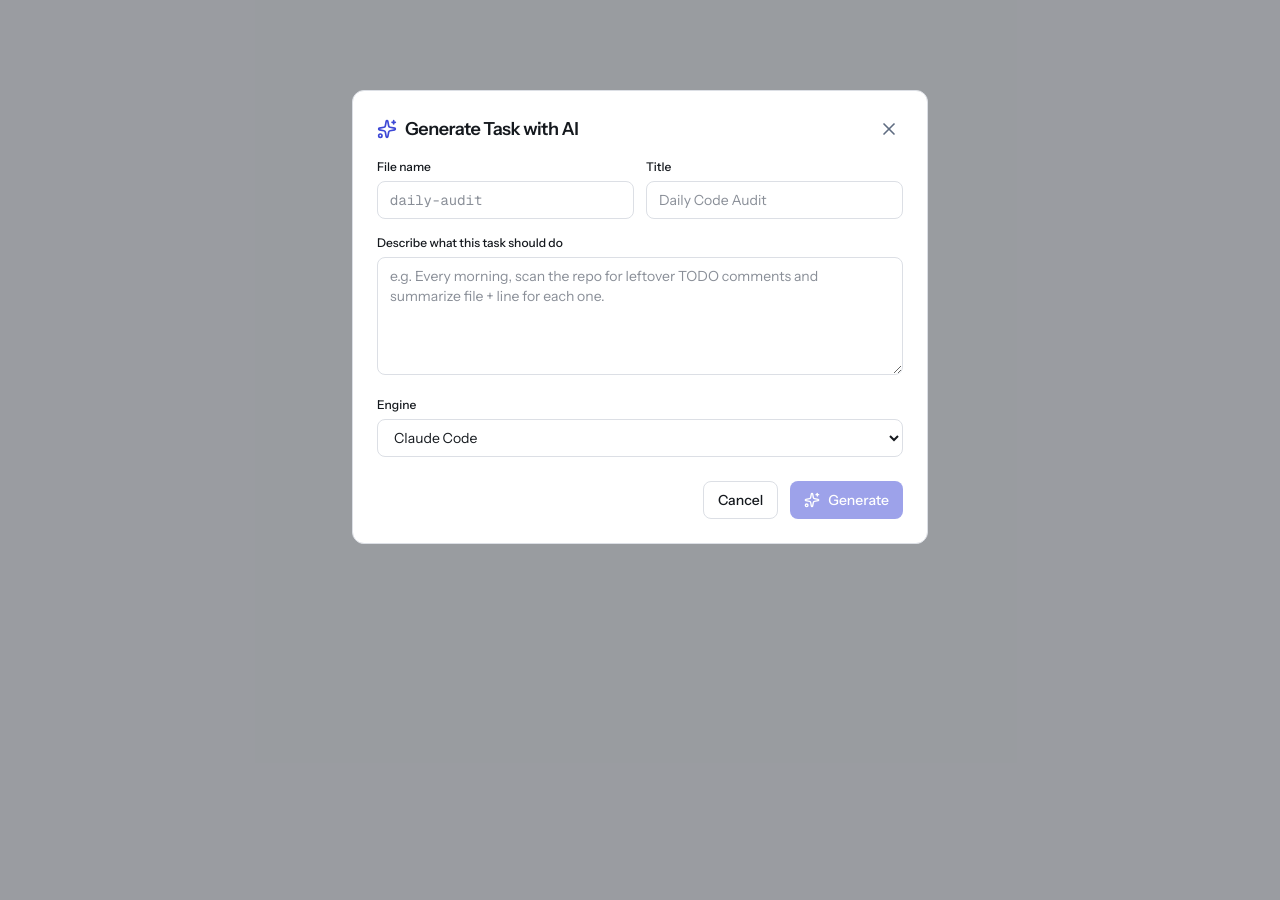
GenerateTaskModal › a run that ends without the task file shows the failure message
The image size is (1280, 900).
In the field labelled "File name": coordinates (506, 200) x1=377 y1=181 x2=634 y2=219, type "nightly-sweep"
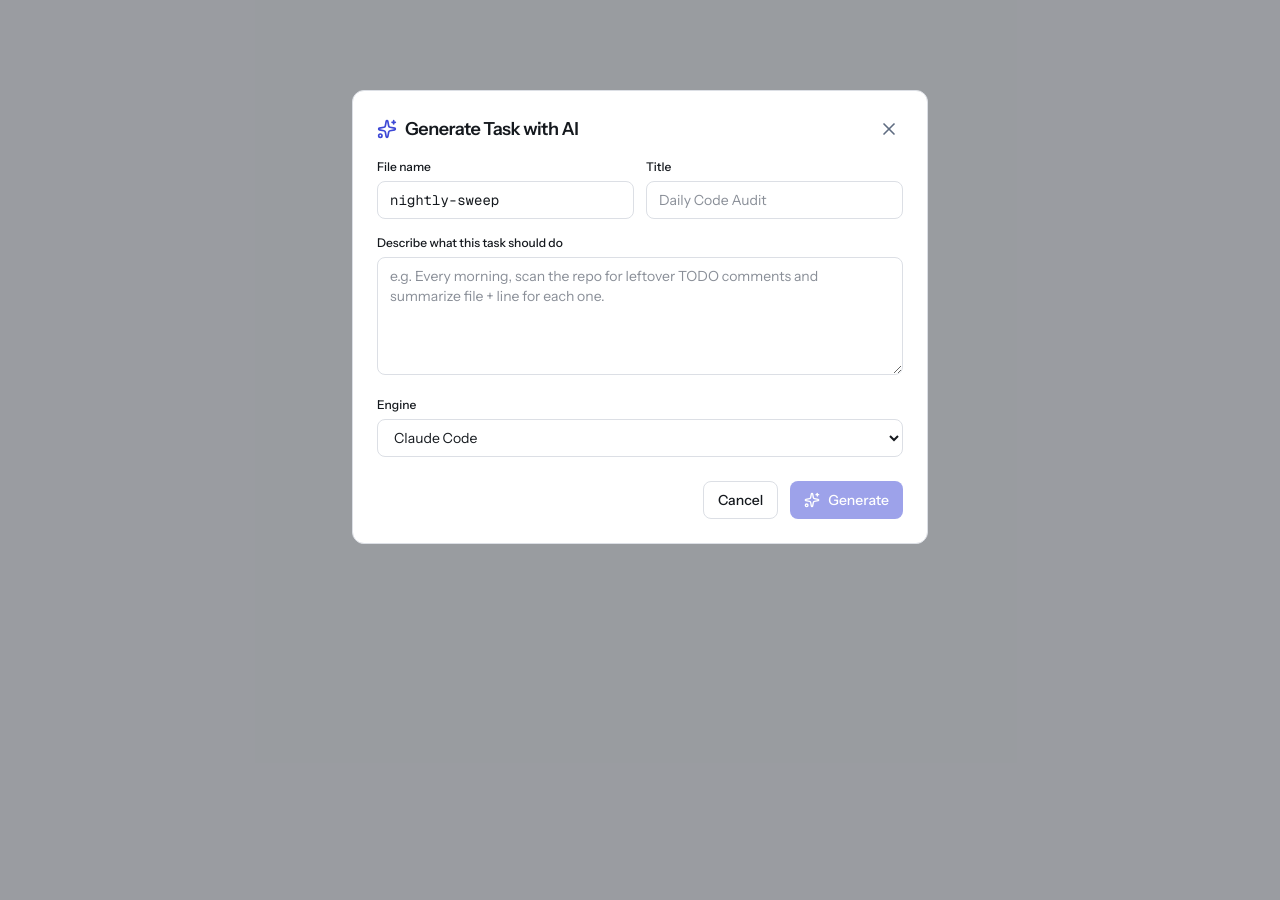
In the field labelled "Title": coordinates (774, 200) x1=646 y1=181 x2=903 y2=219, type "Sweep"
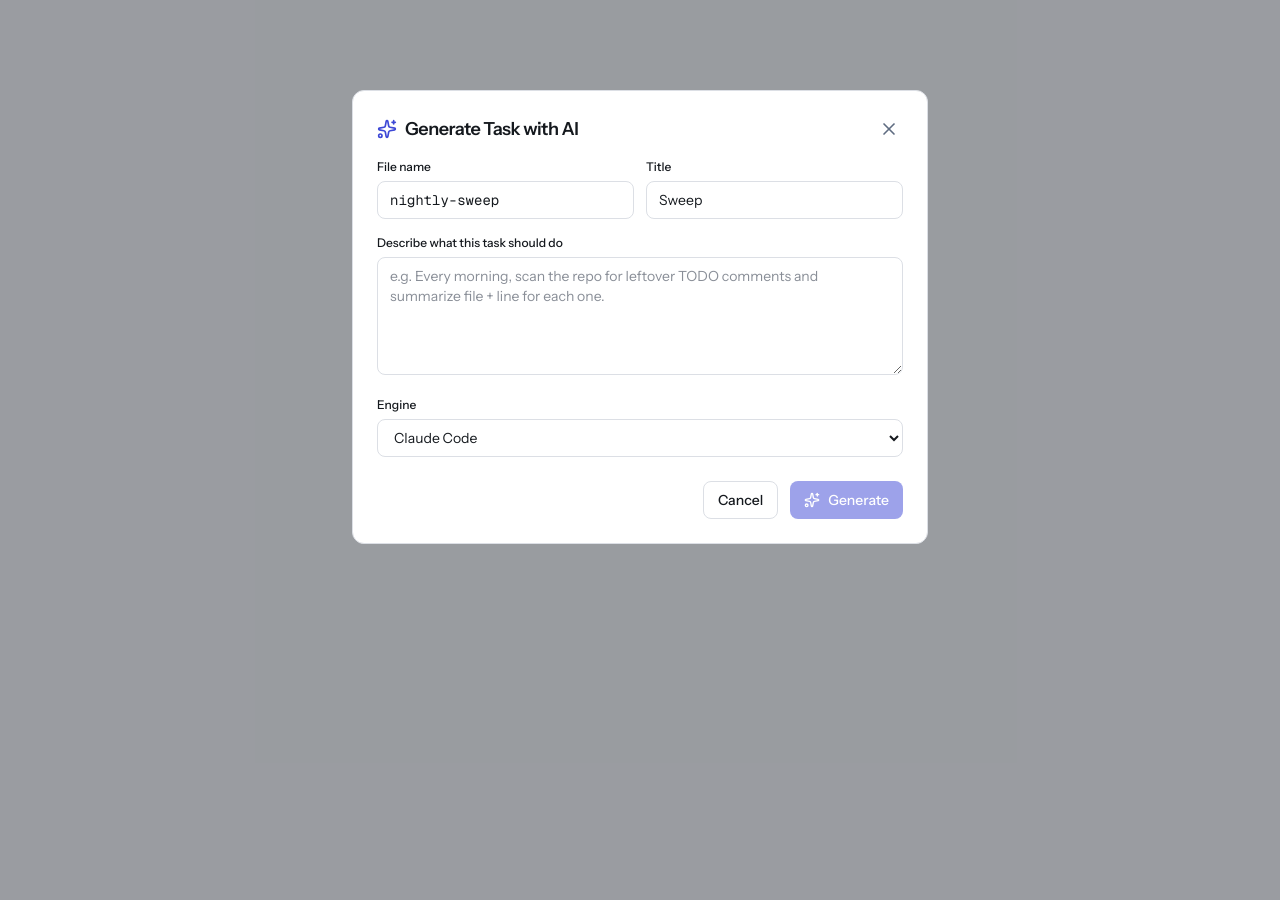
Replace the text in the text box labelled "Describe what this task should do" with "audit dependencies": coordinates (640, 316) x1=377 y1=257 x2=903 y2=375
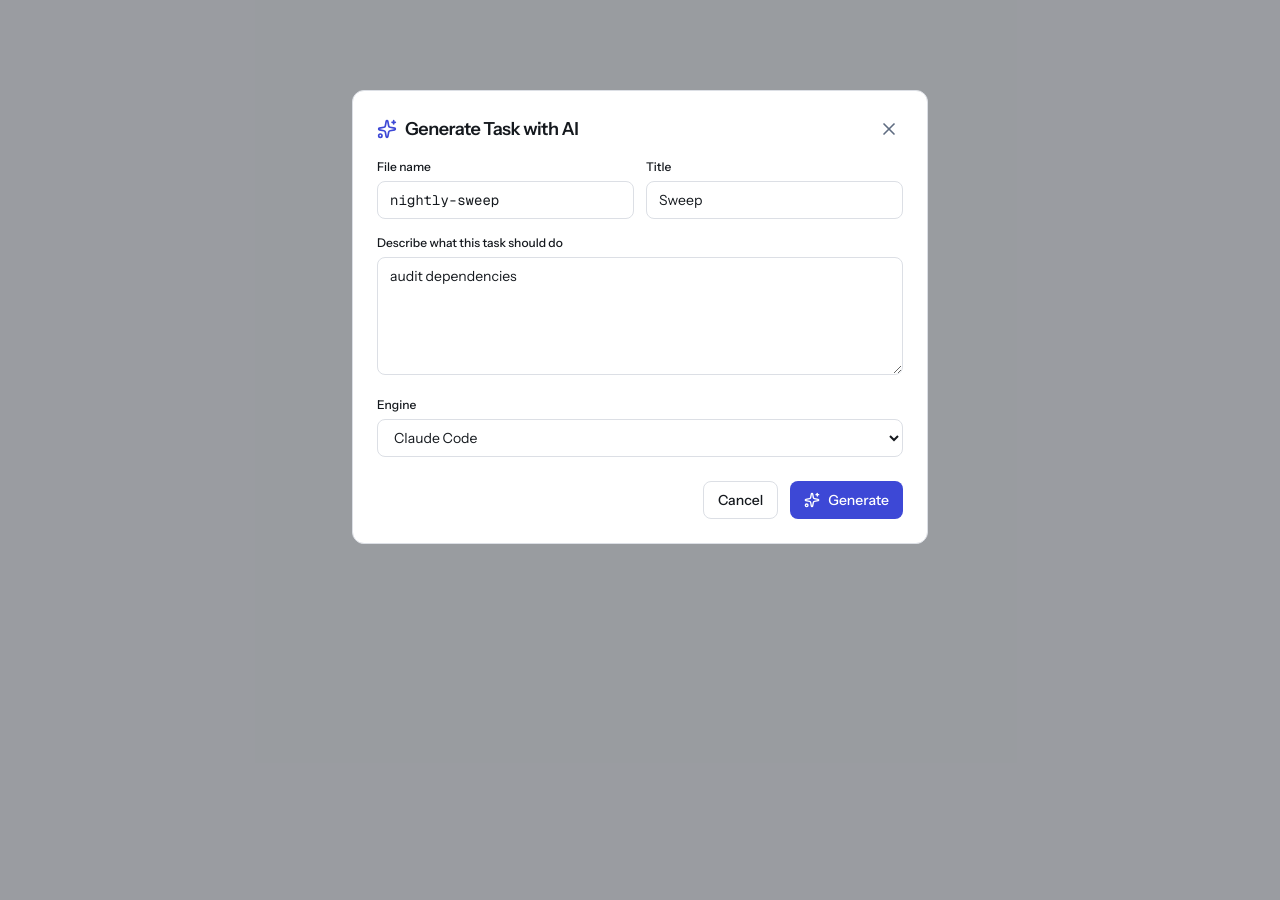
Click the button "Generate": coordinates (847, 500) x1=790 y1=481 x2=903 y2=519
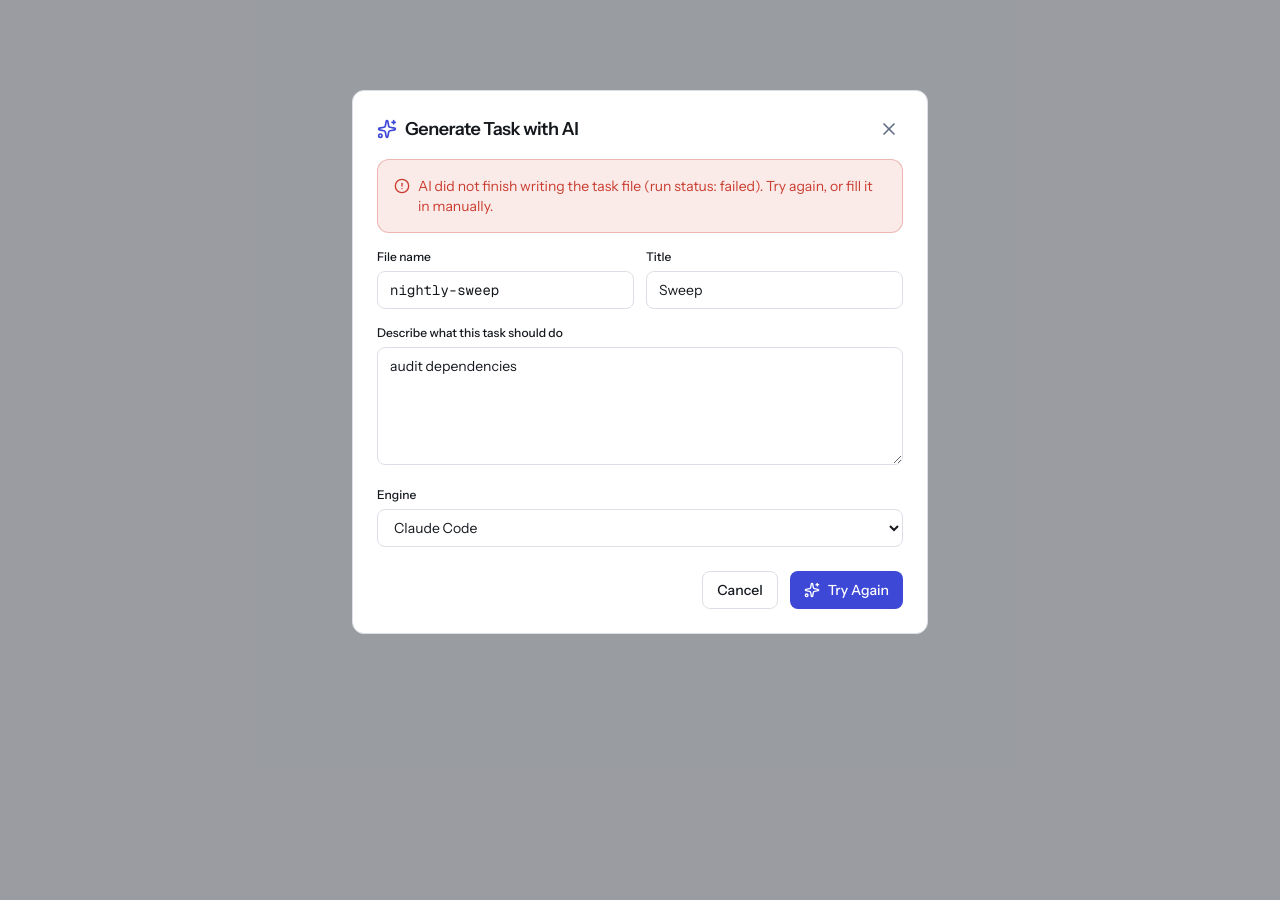
Expected: the message shows "AI did not finish writing the task file", x1=418 y1=177 x2=873 y2=215
Expected: the button "Try Again" is shown, x1=790 y1=571 x2=903 y2=609
